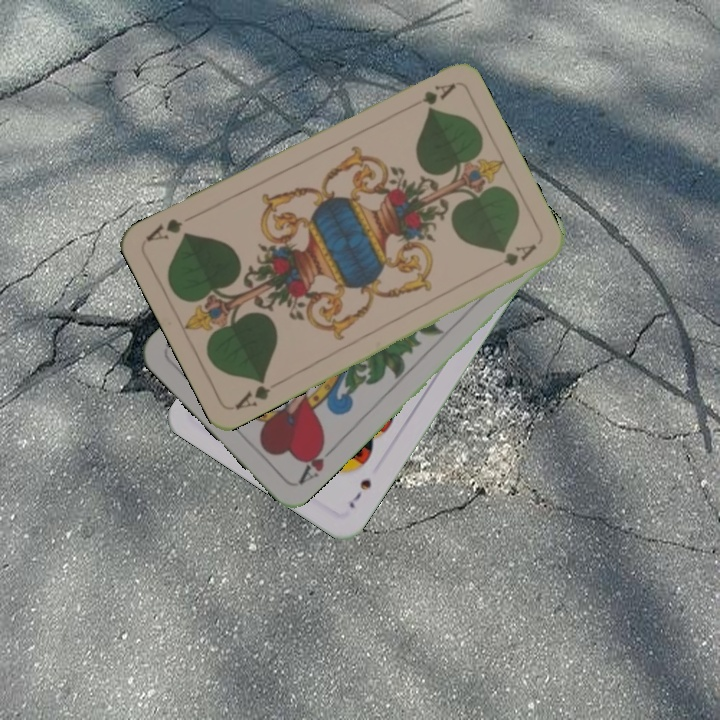GA: (403, 78, 458, 113), (230, 373, 273, 413)
HA: (294, 437, 340, 488)
S7: (345, 475, 375, 511)
